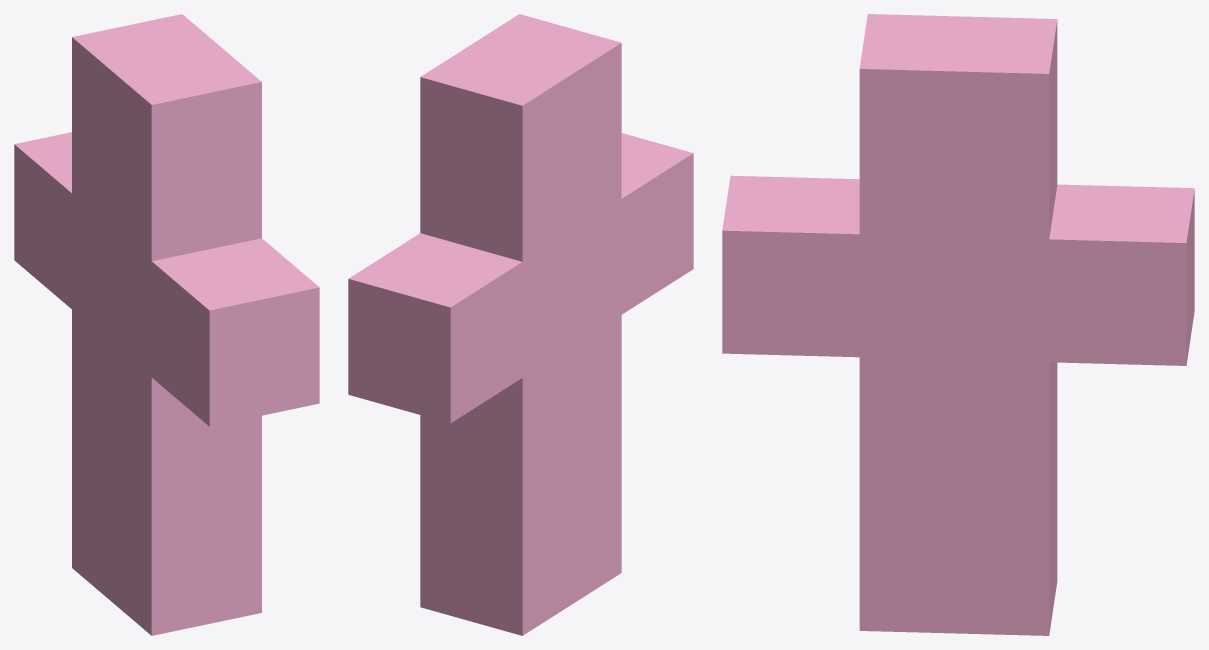
Rendered from Cross01.fbx.
The picture shows the model from 3 angles, left to right: view 1: azimuth 30°, elevation 25°; view 2: azimuth 150°, elevation 25°; view 3: azimuth 270°, elevation 25°; orthographic projection. The views are drawn at different scales.
Parts seen in each view (by area): view 1: Cross; view 2: Cross; view 3: Cross.
Boxes of the visible parts, x1=… form: Cross: x1=14, y1=14, x2=319, y2=635; Cross: x1=348, y1=14, x2=693, y2=635; Cross: x1=722, y1=14, x2=1194, y2=635.
Bounding box in the file's own units: 11.33 × 44.1 × 33.6.
